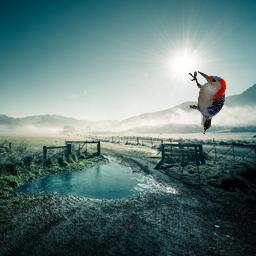Woodpecker: (189, 71, 226, 135)
